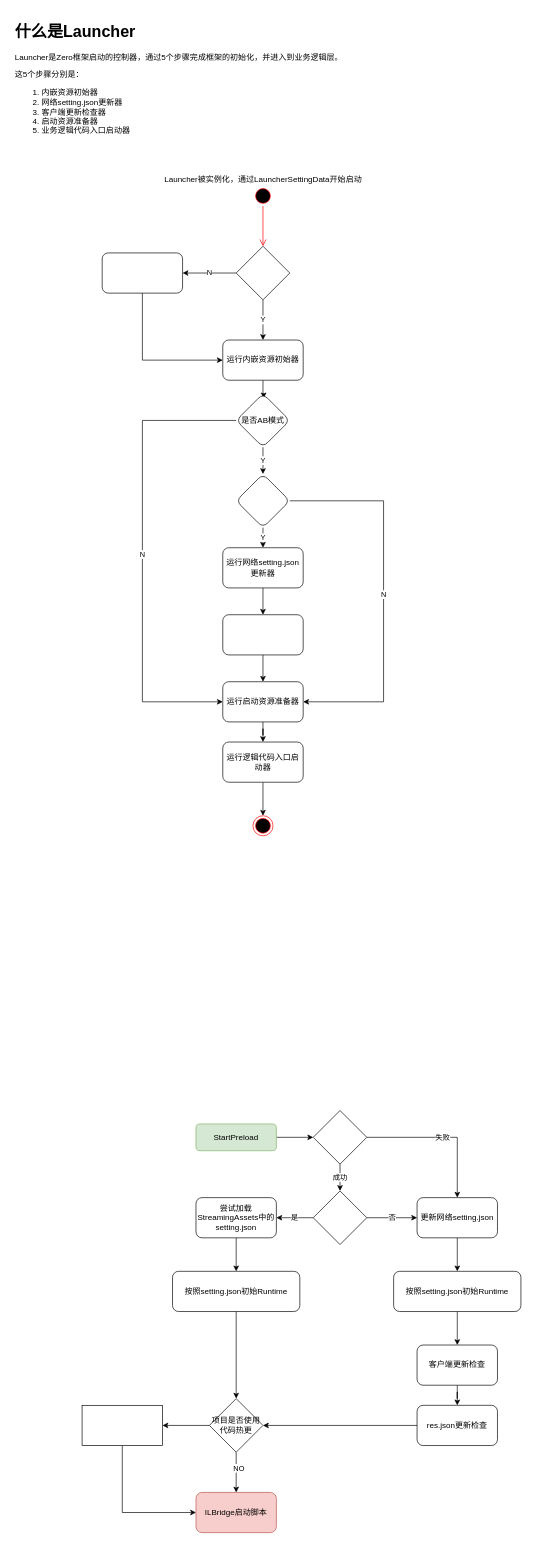
The diagram is 533 pixels wide and 1544 high, and some of its shapes have lost their labels. The centre of each missing label's shape, as x and y in pixels:
"isEditor" belongs at point (263, 273).
"内嵌setting.json是否标记不用热更" belongs at point (340, 1217).
"加载Dll文件" belongs at point (121, 1425).
"启动结束" belongs at point (262, 825).
"尝试加载内嵌setting.json" belongs at point (340, 1137).
"强制开启AB模式" belongs at point (142, 272).
"热更是否开启" belongs at point (263, 500).
"运行客户端更新检查器" belongs at point (262, 634).
